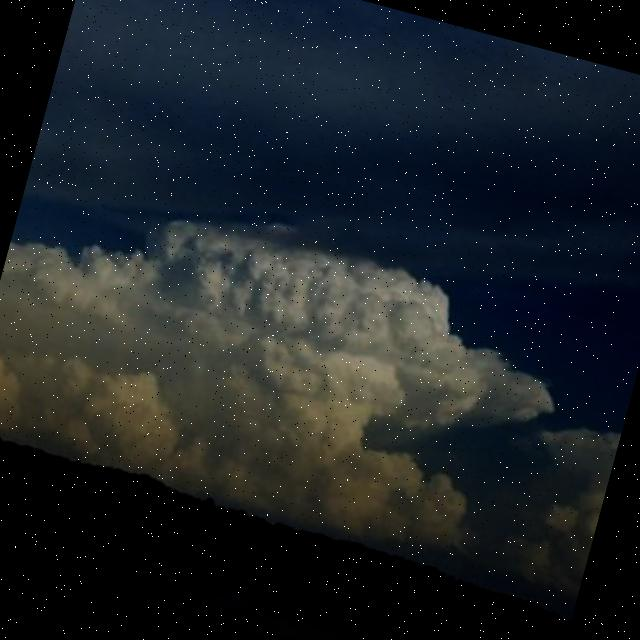Cb: (1, 106, 640, 592)
